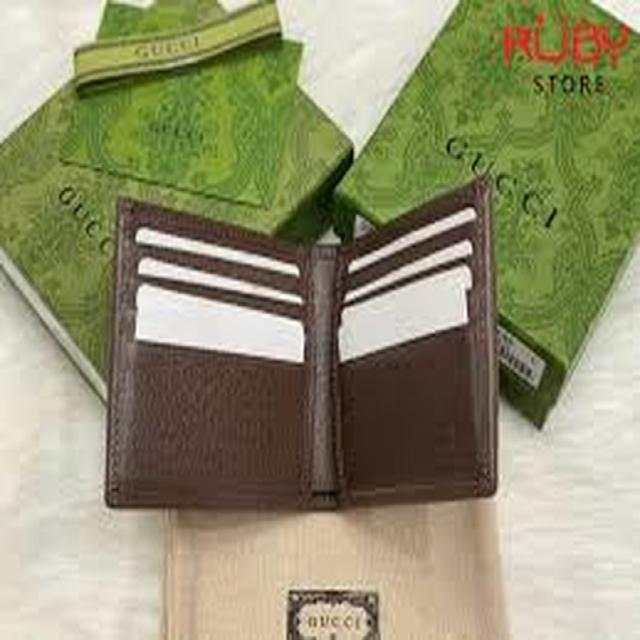wallet: (89, 171, 506, 529)
